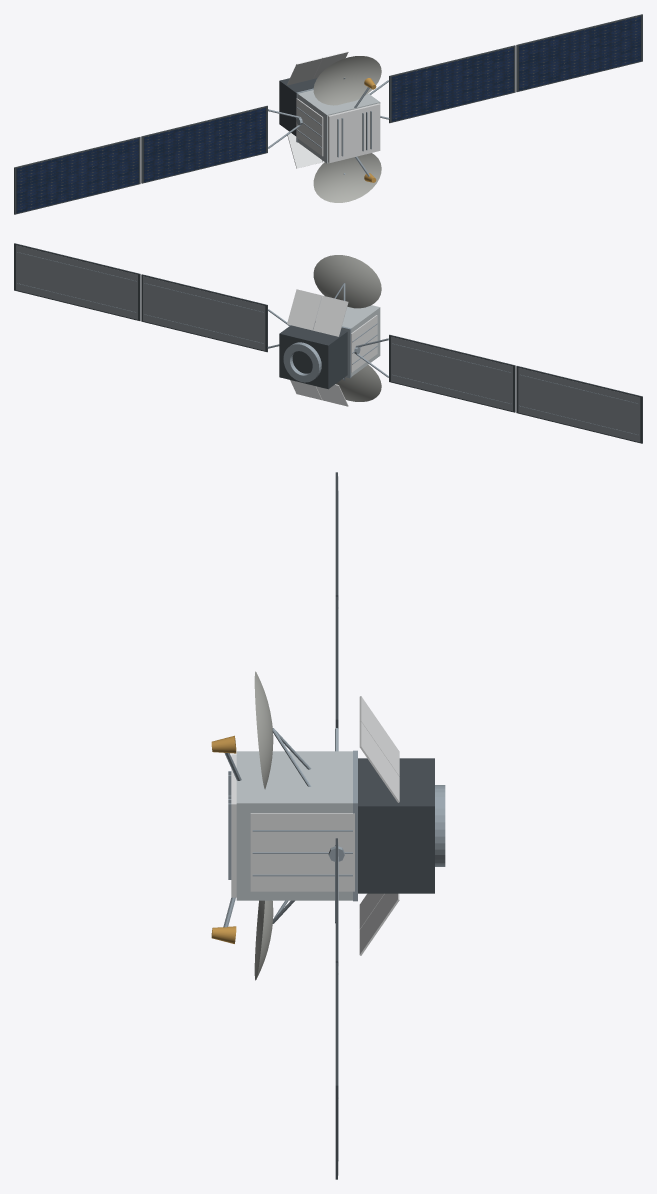
The model's file is ref-a2100-24315.glb.
The picture shows the model from 3 angles, top to bottom: view 1: azimuth 30°, elevation 25°; view 2: azimuth 150°, elevation 25°; view 3: azimuth 270°, elevation 25°; orthographic projection. The views are drawn at different scales.
Parts seen in each view (by area): view 1: Solar cell panel (×4), Communications reflector (×2), Solar panel frame (×4), Earth-facing deck, Deployed radiator leaf (×3), Payload module, Radiator face, Service module; view 2: Rear array substrate (×4), Communications reflector (×2), Service module, Solar panel frame (×4), Deployed radiator leaf (×4), Radiator face, Payload module, Launch adapter ring; view 3: Service module, Payload module, Radiator face, Deployed radiator leaf (×3), Communications reflector (×2).
Part boxes in pixels (left/top/right/bottom): Solar cell panel (×4): left=16, top=16, right=641, bottom=213; Communications reflector (×2): left=313, top=56, right=381, bottom=202; Solar panel frame (×4): left=14, top=14, right=642, bottom=214; Earth-facing deck: left=328, top=103, right=380, bottom=163; Deployed radiator leaf (×3): left=287, top=51, right=348, bottom=168; Payload module: left=297, top=90, right=380, bottom=163; Radiator face: left=296, top=98, right=323, bottom=156; Service module: left=279, top=78, right=316, bottom=136; Rear array substrate (×4): left=16, top=245, right=640, bottom=442; Communications reflector (×2): left=313, top=255, right=381, bottom=401; Service module: left=279, top=325, right=347, bottom=389; Solar panel frame (×4): left=14, top=243, right=642, bottom=443; Deployed radiator leaf (×4): left=287, top=289, right=348, bottom=406; Radiator face: left=351, top=315, right=377, bottom=372; Payload module: left=317, top=298, right=380, bottom=376; Launch adapter ring: left=283, top=342, right=321, bottom=382; Service module: left=358, top=758, right=434, bottom=893; Payload module: left=236, top=751, right=352, bottom=900; Radiator face: left=250, top=813, right=354, bottom=891; Deployed radiator leaf (×3): left=359, top=696, right=399, bottom=955; Communications reflector (×2): left=254, top=671, right=273, bottom=980.
Bounding box in the file's own units: 25.95 × 5.7 × 4.18.
Materials: 8 (1 with a texture image).
